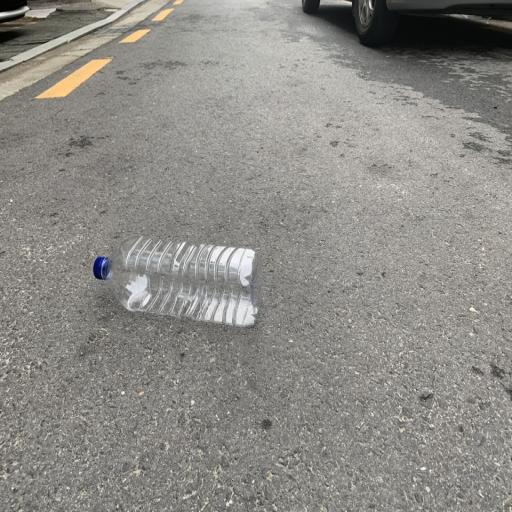plastic: (92, 233, 262, 326)
